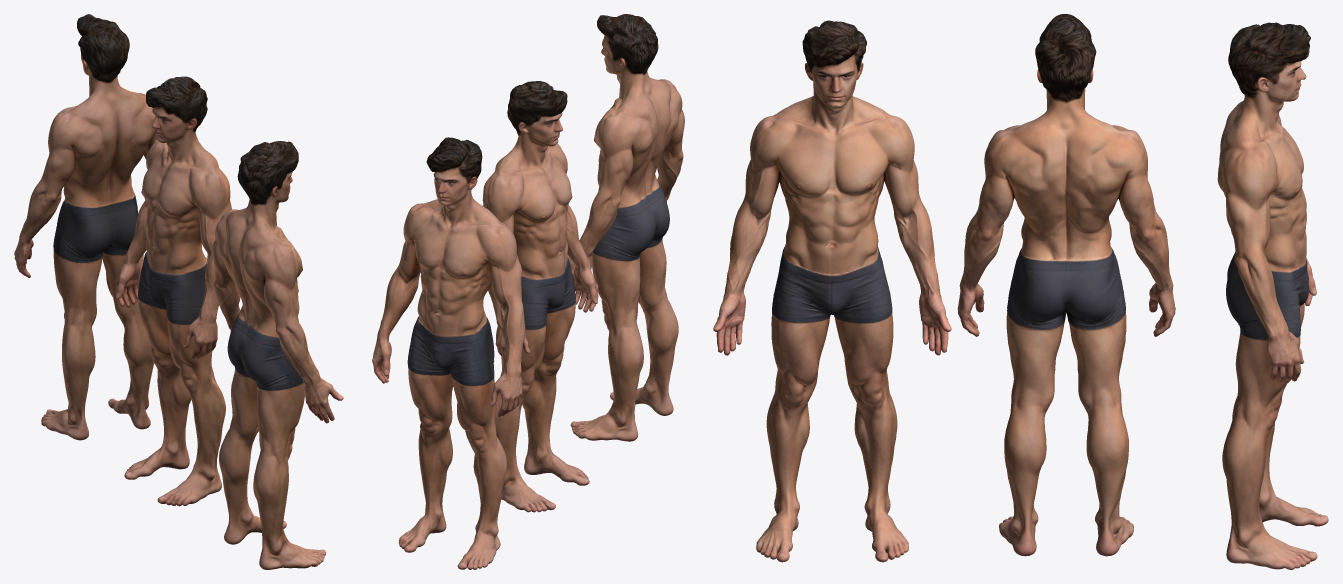
File: anatomymodel.glb
3 renders of one model, left to right at view 1: azimuth 30°, elevation 25°; view 2: azimuth 150°, elevation 25°; view 3: azimuth 270°, elevation 25°, orthographic. The views are drawn at different scales.
Parts seen in each view (by area): view 1: tripo_node_403a7af0-57d7-4677-827d-1af093daf4f8; view 2: tripo_node_403a7af0-57d7-4677-827d-1af093daf4f8; view 3: tripo_node_403a7af0-57d7-4677-827d-1af093daf4f8.
Boxes of the visible parts, box(x1,y1,x2,y2) form: tripo_node_403a7af0-57d7-4677-827d-1af093daf4f8: box(14, 14, 343, 569); tripo_node_403a7af0-57d7-4677-827d-1af093daf4f8: box(372, 14, 684, 569); tripo_node_403a7af0-57d7-4677-827d-1af093daf4f8: box(713, 14, 1328, 569).
Bounding box in the file's own units: 0.352 × 0.9141 × 0.9799.
1 material, 1 textured.
